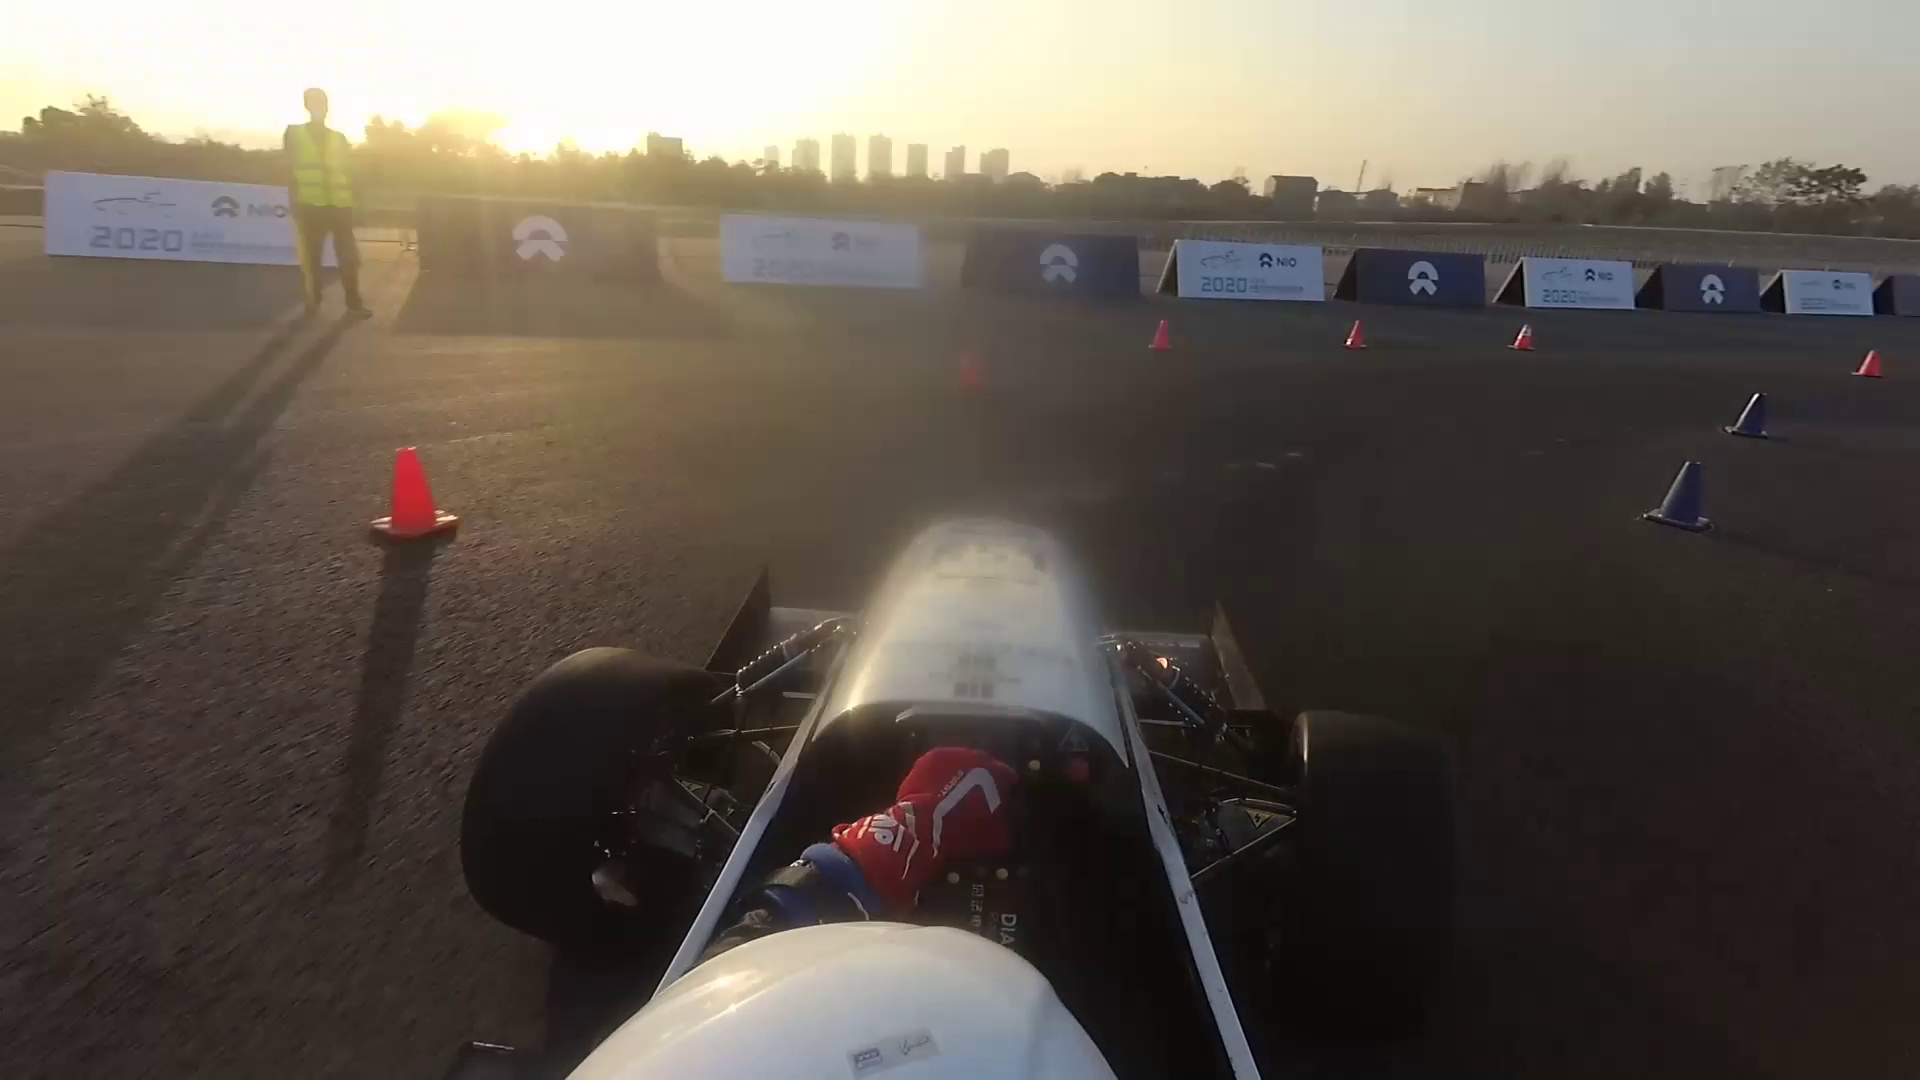blue_cone: (1644, 460, 1709, 527), (1725, 396, 1774, 436)
red_cone: (375, 452, 459, 553), (957, 349, 982, 386), (1507, 320, 1535, 353), (1855, 349, 1883, 380), (1149, 320, 1172, 353), (1349, 319, 1366, 353)
